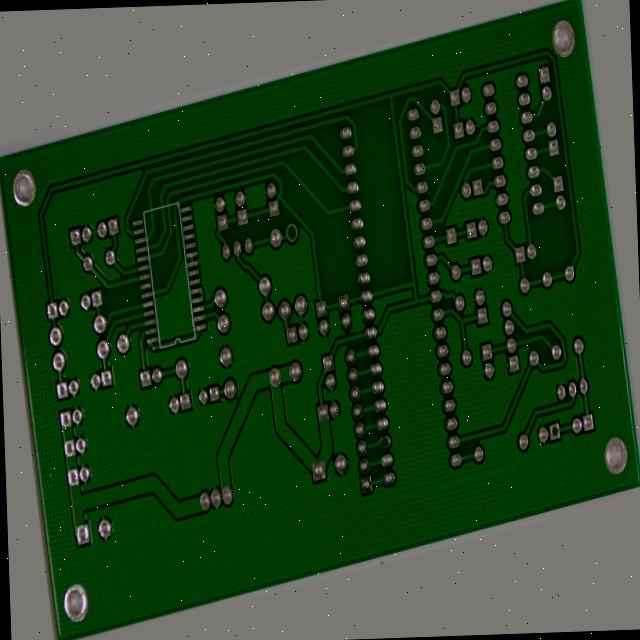missing_hole: (288, 188, 307, 221), (551, 514, 566, 536), (371, 479, 385, 502)
